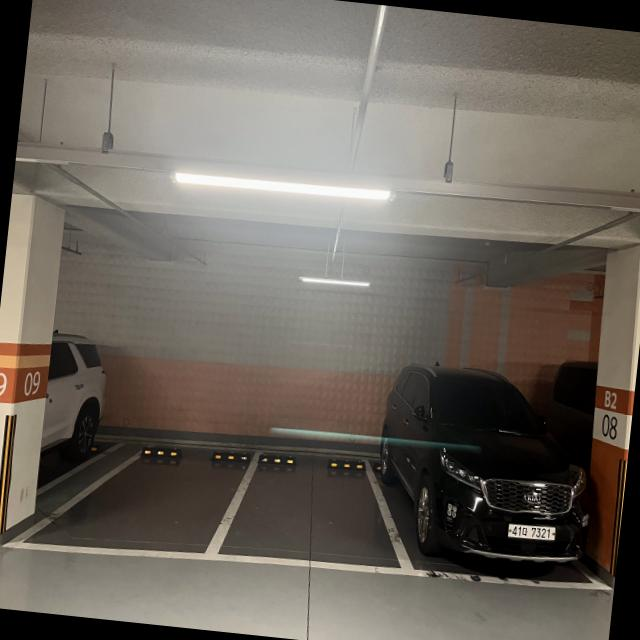car: (390, 350, 604, 596)
free: (4, 429, 248, 572), (221, 437, 438, 578)
